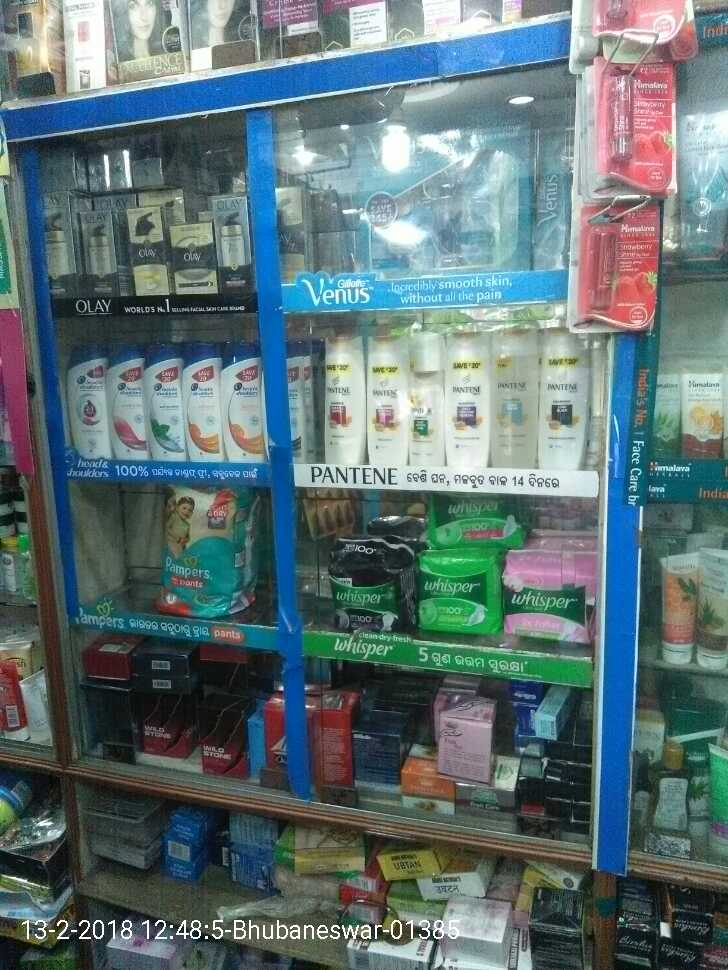venus: (421, 126, 533, 270), (533, 124, 573, 270)
